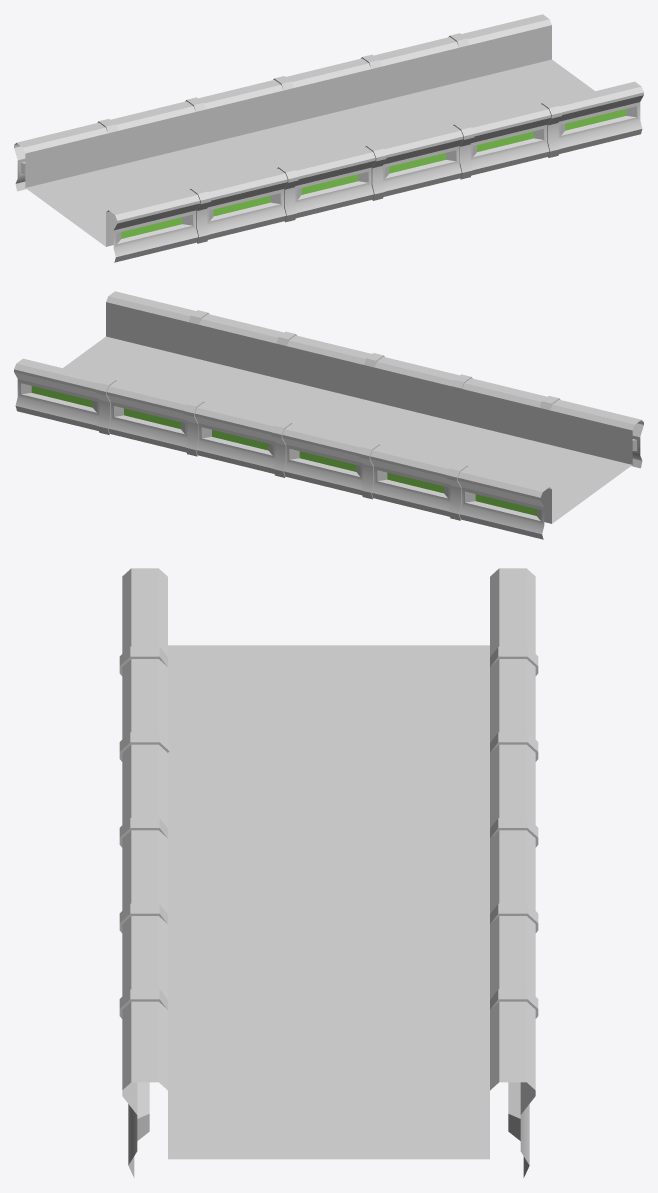
File: Conveyor_Frame.fbx
The picture shows the model from 3 angles, top to bottom: view 1: azimuth 30°, elevation 25°; view 2: azimuth 150°, elevation 25°; view 3: azimuth 270°, elevation 25°; orthographic projection. The views are drawn at different scales.
Visible parts, largest first — view 1: Cube; view 2: Cube; view 3: Cube.
Part boxes in pixels (x1,y1,x2,y2): Cube: [14, 14, 643, 262]; Cube: [14, 291, 643, 539]; Cube: [119, 568, 538, 1177].
Bounding box in the file's own units: 138 × 400 × 36.63.
